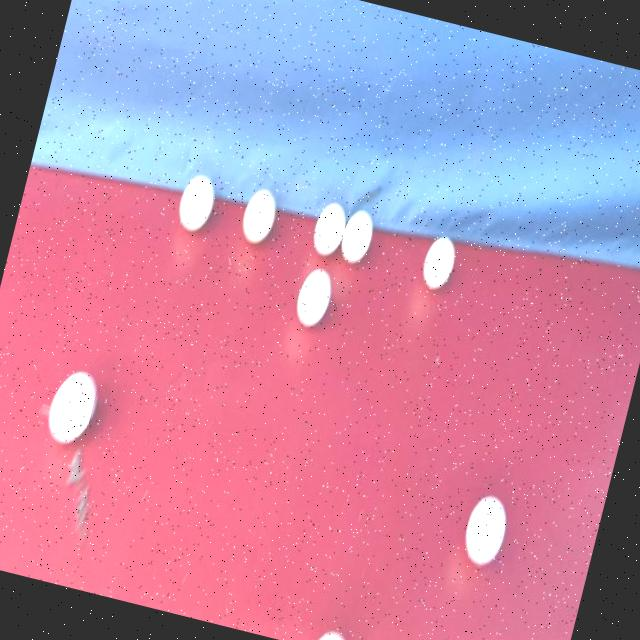ping-pong-ball: (40, 362, 106, 452), (456, 488, 515, 570), (170, 168, 222, 240), (290, 262, 338, 332), (236, 182, 284, 250), (414, 230, 462, 296), (307, 195, 353, 261), (336, 203, 380, 268), (305, 621, 361, 640)
